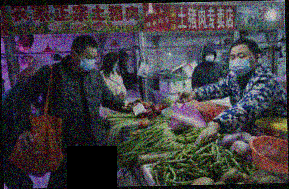mask_weared_incorrect: (113, 60, 119, 71)
with_mask: (228, 49, 255, 75), (77, 51, 99, 72), (204, 51, 215, 62)
